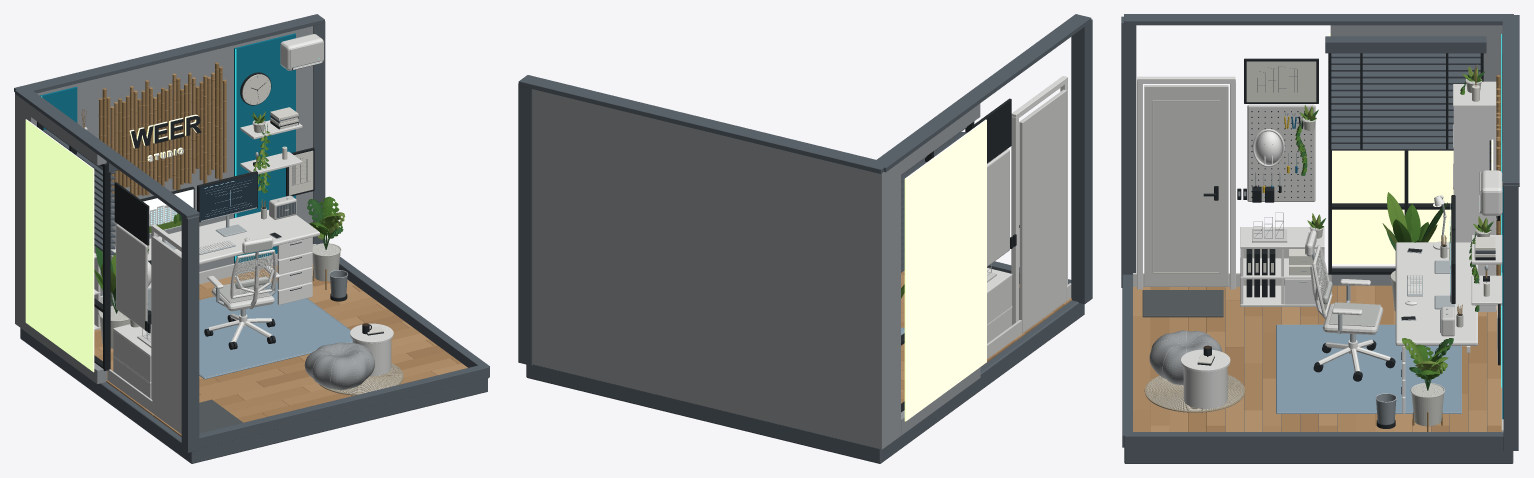
File: office-studio.glb
3 views of the same model, side by side, from view 1: azimuth 30°, elevation 25°; view 2: azimuth 150°, elevation 25°; view 3: azimuth 270°, elevation 25° (orthographic). The views are drawn at different scales.
Visible parts, largest first — view 1: room_geometry, decor_geometry, furniture_geometry, pegboard_geometry, door_geometry, lounge_geometry, chair_geometry, plants_geometry, monitors_geometry, shelves_geometry, blinds_geometry, logo_geometry (+8 smaller); view 2: room_geometry, door_geometry, pegboard_geometry, furniture_geometry, blinds_geometry; view 3: room_geometry, furniture_geometry, door_geometry, blinds_geometry, decor_geometry, pegboard_geometry, lounge_geometry, plants_geometry, chair_geometry, shelves_geometry, monitors_geometry, ac_geometry (+2 smaller).
Part boxes in pixels (<box>): room_geometry: <box>14,14,489,463</box>; decor_geometry: <box>199,270,352,379</box>; furniture_geometry: <box>94,209,319,398</box>; pegboard_geometry: <box>114,147,314,347</box>; door_geometry: <box>152,236,181,434</box>; lounge_geometry: <box>304,323,403,395</box>; chair_geometry: <box>204,237,280,349</box>; plants_geometry: <box>81,109,345,348</box>; monitors_geometry: <box>140,171,257,249</box>; shelves_geometry: <box>240,107,302,174</box>; blinds_geometry: <box>42,125,115,255</box>; logo_geometry: <box>129,114,201,161</box>; room_geometry: <box>518,14,1092,463</box>; door_geometry: <box>1019,89,1066,333</box>; pegboard_geometry: <box>974,98,1011,282</box>; furniture_geometry: <box>987,268,1012,343</box>; blinds_geometry: <box>901,127,966,272</box>; room_geometry: <box>1121,14,1519,463</box>; furniture_geometry: <box>1240,81,1496,352</box>; door_geometry: <box>1144,85,1228,286</box>; blinds_geometry: <box>1331,53,1480,150</box>; decor_geometry: <box>1276,324,1461,428</box>; pegboard_geometry: <box>1244,58,1500,365</box>; lounge_geometry: <box>1144,330,1245,412</box>; plants_geometry: <box>1295,64,1493,431</box>; chair_geometry: <box>1305,230,1395,381</box>; shelves_geometry: <box>1471,235,1502,305</box>; monitors_geometry: <box>1434,195,1455,309</box>; ac_geometry: <box>1479,170,1502,215</box>.
Size of the model in its own units: 3.79 by 2.93 by 3.73.
